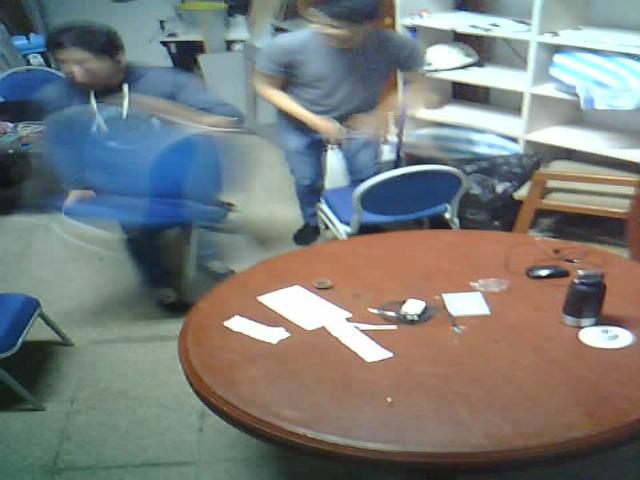person: (21, 10, 261, 327), (235, 0, 437, 257)
